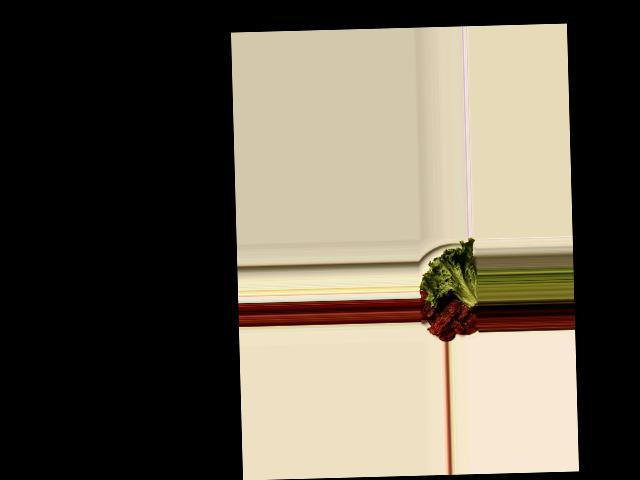lettuce: (420, 241, 478, 308)
